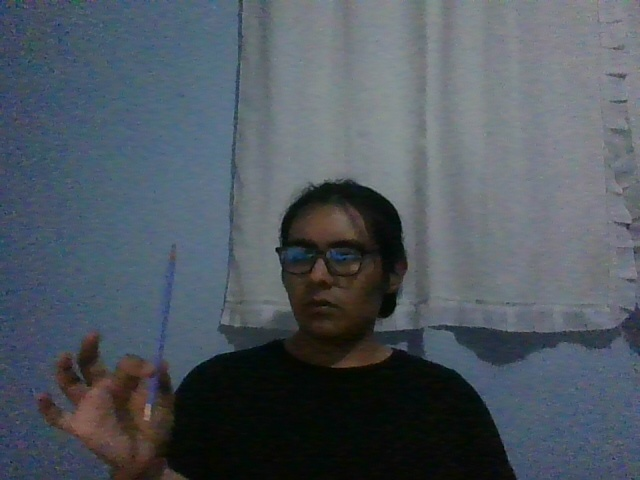lapiz: (142, 242, 177, 422)
